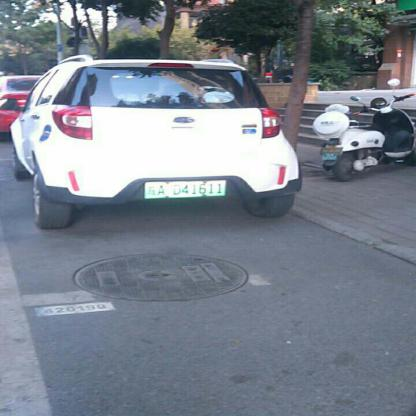lp: (142, 179, 229, 201)
